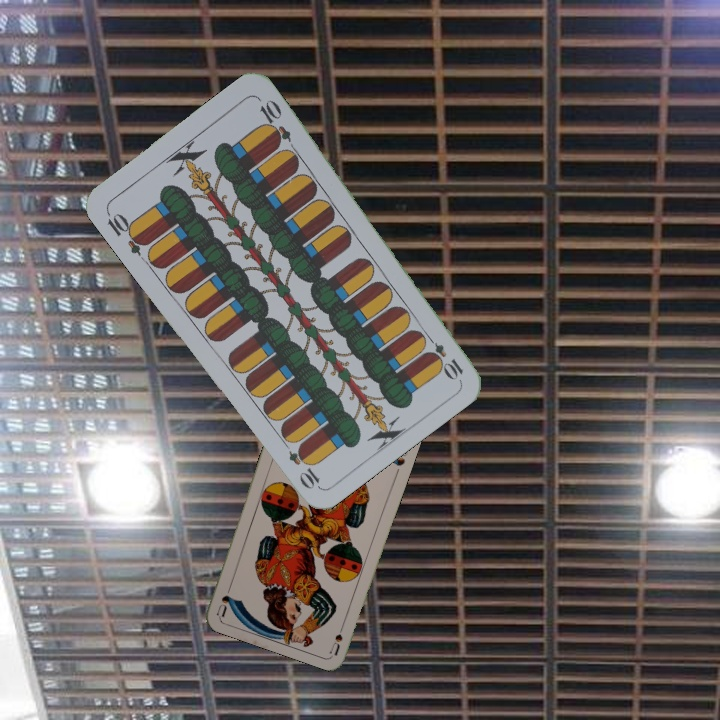E10: (102, 207, 151, 258), (420, 330, 466, 382)
SU: (326, 616, 348, 657)
